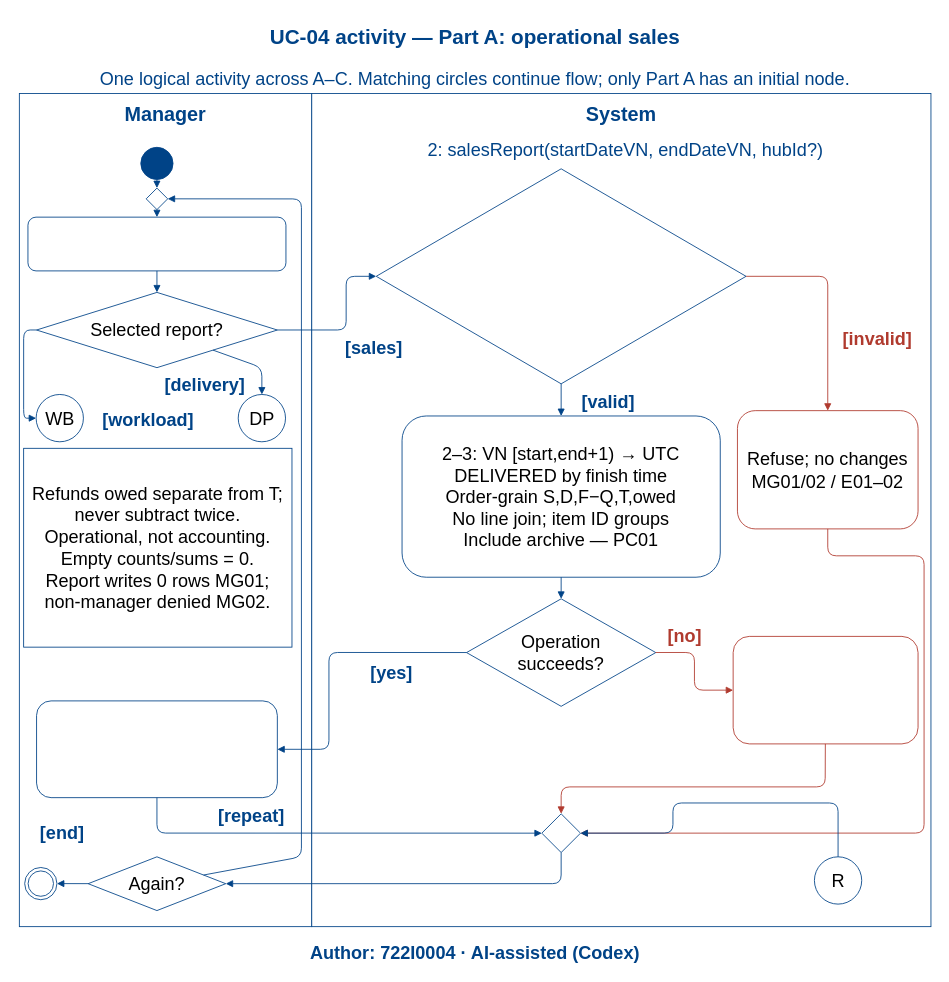
Image size: 949x982. Some labels were removed from this diagram. The box of each missing label's shape, as (x1, y1, x2, y2) in pixels:
1: Select report type: (27, 216, 286, 271)
4–5: Read sales / counts End or new request: (36, 700, 277, 798)
Active MANAGER; valid ordered dates; existing optional hub?: (375, 168, 746, 384)
Read unavailable No fabricated result MG01 / E03: (732, 636, 918, 744)
